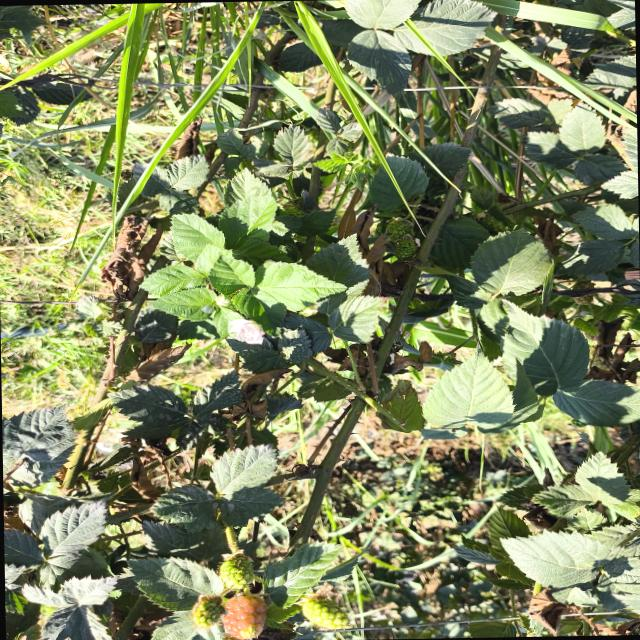boton: (215, 294, 230, 306), (201, 304, 215, 313)
flor: (230, 319, 264, 344)
